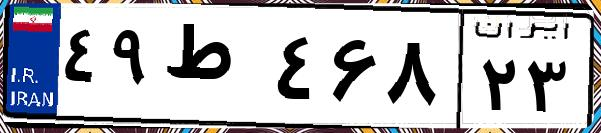2: (475, 38, 525, 113)
3: (525, 38, 570, 115)
4: (270, 28, 330, 110), (57, 26, 110, 100)
6: (330, 28, 385, 110)
8: (385, 28, 445, 110)
9: (110, 28, 158, 98)
ط: (158, 20, 270, 120)
